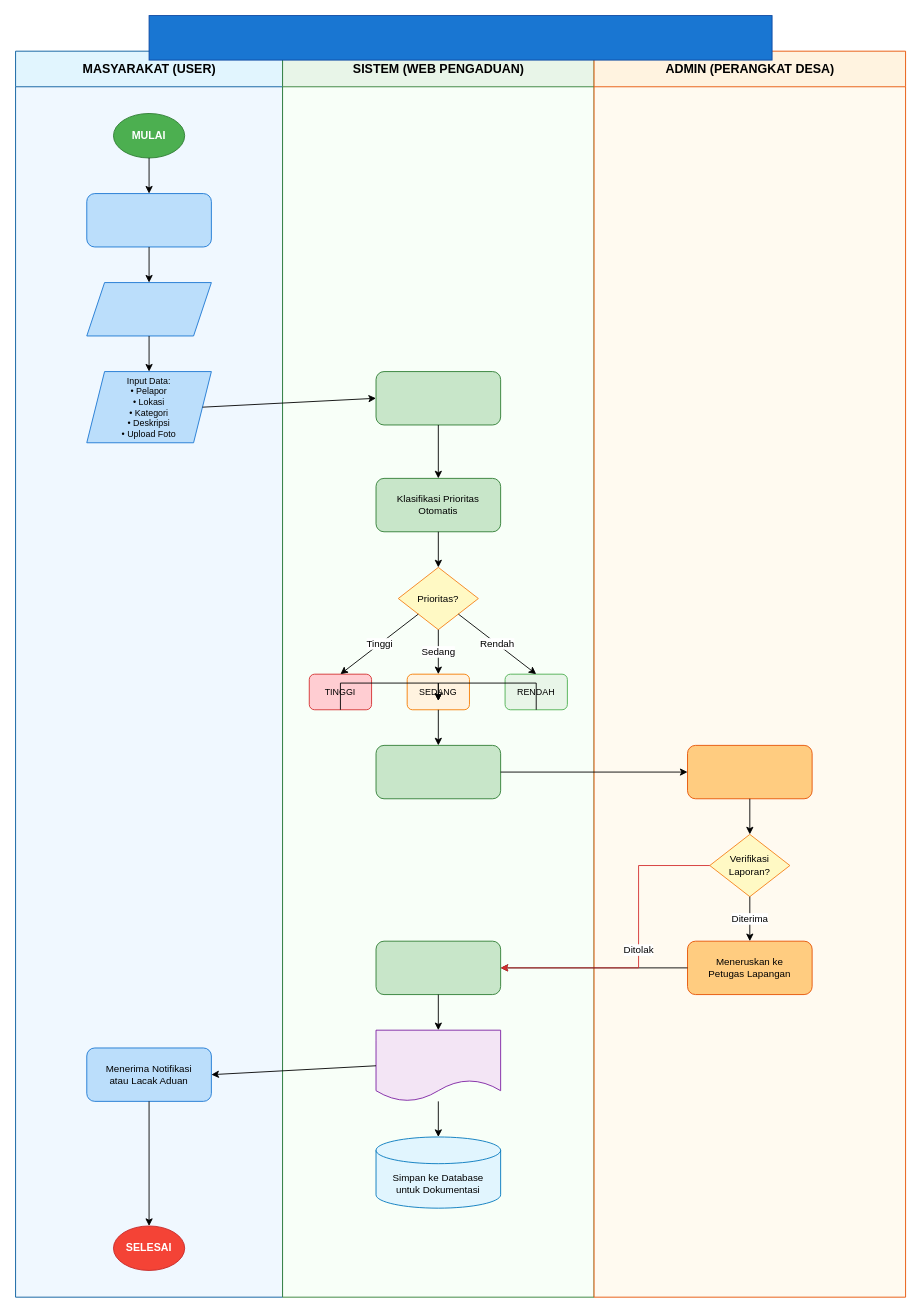
The diagram is 921 pixels wide and 1313 high, and some of its shapes have lost their labels. Each missing label, with the centre of its shape:
FLOWMAP SISTEM INFORMASI PENGADUAN MASYARAKAT DESA RAJAMANDALA KULON: the point at 460,37
Membuka Website Pengaduan: the point at 148,220
Menerima Data Pengaduan: the point at 438,398
Menerima Laporan di Dashboard: the point at 749,771
Mengirim ke Dashboard Admin: the point at 438,771
Mengisi Form Pengaduan: the point at 148,309
Status: • Menunggu • Diproses • Selesai • Ditolak: the point at 438,1065
Update Status Laporan: the point at 438,967
